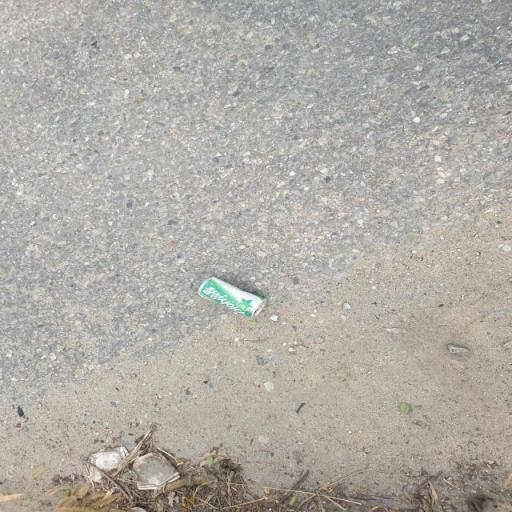metal: (184, 262, 280, 345)
